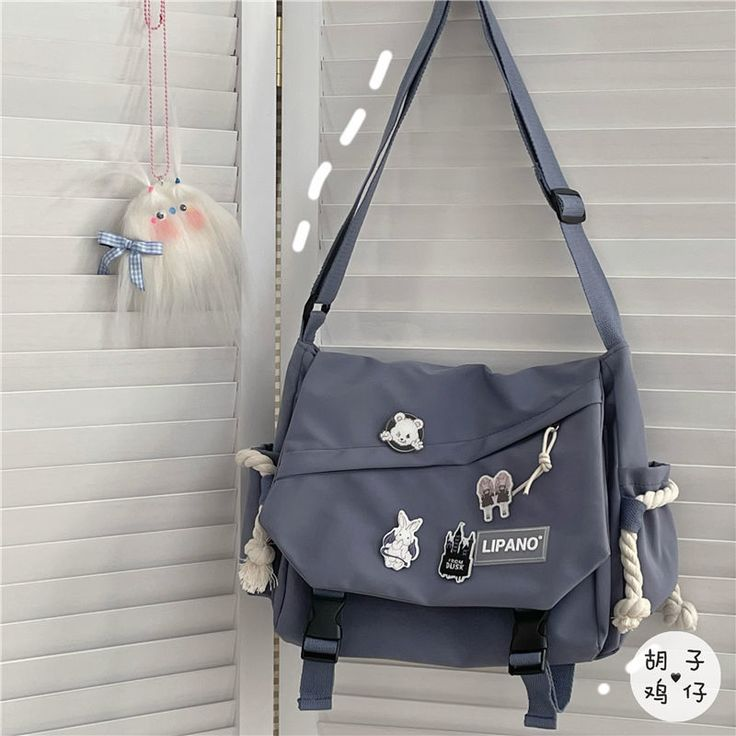nylon: (243, 1, 679, 730)
